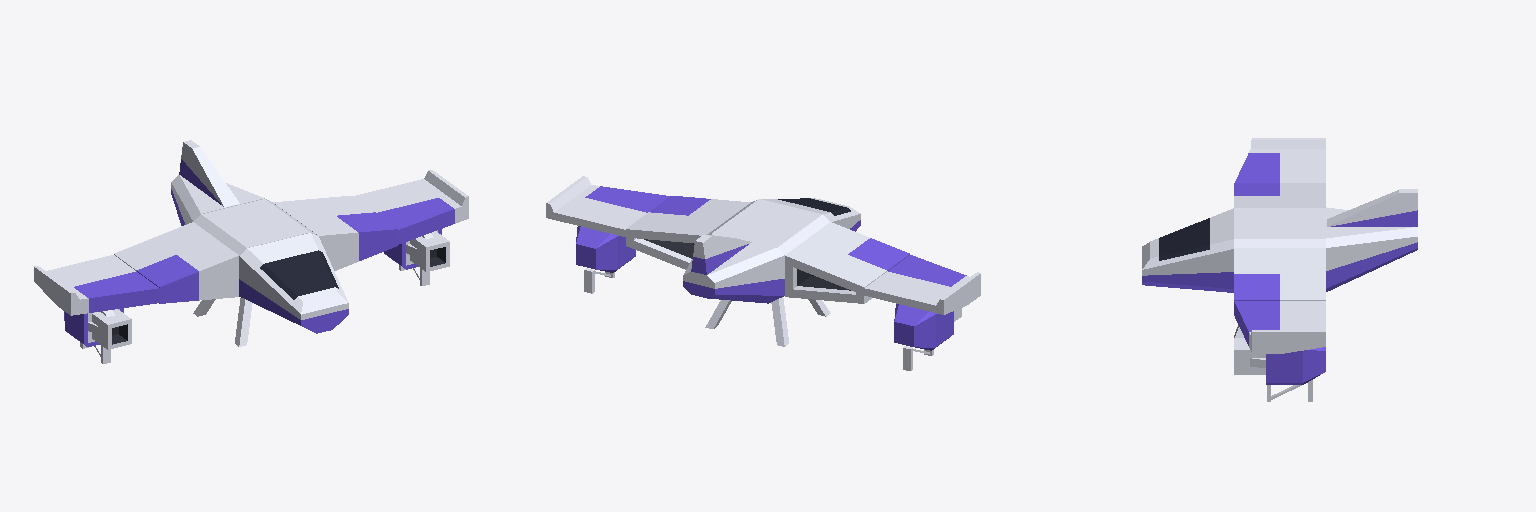
The model's file is spaceship2.obj.
3 views of the same model, side by side, from view 1: azimuth 30°, elevation 25°; view 2: azimuth 150°, elevation 25°; view 3: azimuth 270°, elevation 25° (orthographic).
Visible parts, largest first — view 1: engine_flatEdge, wing_slantWinglet, hull_cockpitPoint, engine_detailed, hull_body, rudder, hull_tailTop, gear_slant; view 2: engine_flatEdge, wing_slantWinglet, hull_tailTop, engine_detailed, hull_body, rudder, hull_cockpitPoint, gear_slant, gear_half; view 3: wing_slantWinglet, engine_flatEdge, hull_cockpitPoint, hull_tailTop, hull_body, engine_detailed, rudder.
Boxes of the visible parts, x1,y1,x2,y2 form: engine_flatEdge: [114, 196, 397, 303]; wing_slantWinglet: [34, 170, 468, 315]; hull_cockpitPoint: [239, 233, 348, 333]; engine_detailed: [64, 229, 449, 349]; hull_body: [194, 199, 317, 255]; rudder: [179, 140, 239, 207]; hull_tailTop: [171, 175, 268, 225]; gear_slant: [193, 298, 252, 346]; engine_flatEdge: [626, 196, 909, 303]; wing_slantWinglet: [546, 176, 980, 314]; hull_tailTop: [683, 232, 784, 303]; engine_detailed: [576, 226, 961, 350]; hull_body: [709, 199, 829, 254]; rudder: [691, 234, 751, 274]; hull_cockpitPoint: [762, 198, 860, 231]; gear_slant: [705, 297, 830, 346]; gear_half: [584, 268, 933, 370]; wing_slantWinglet: [1234, 138, 1325, 353]; engine_flatEdge: [1234, 183, 1325, 300]; hull_cockpitPoint: [1142, 208, 1233, 292]; hull_tailTop: [1326, 207, 1417, 291]; hull_body: [1234, 208, 1325, 247]; engine_detailed: [1234, 338, 1325, 384]; rudder: [1327, 189, 1417, 226].
Size of the model in its own units: 5 by 1.55 by 3.